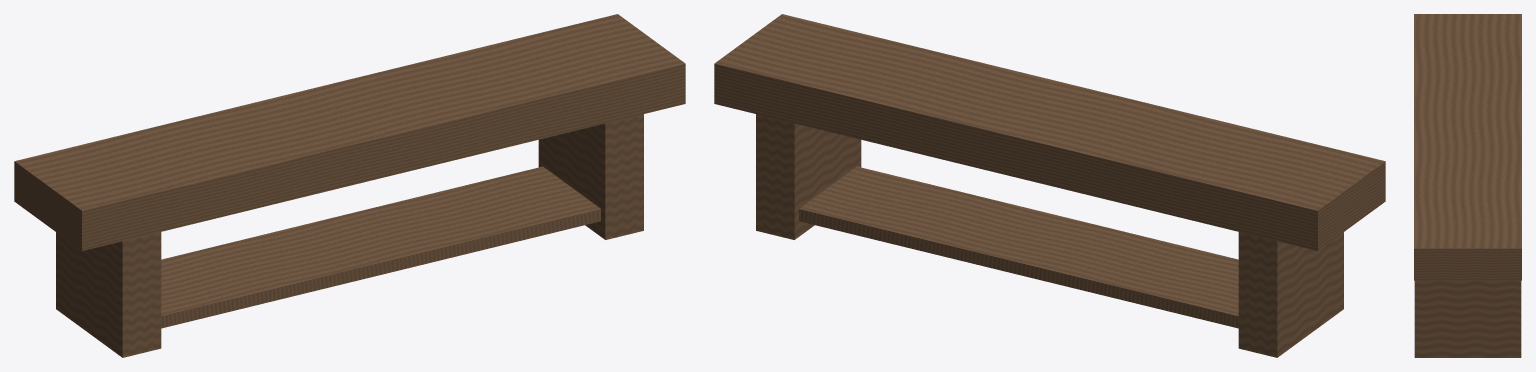
The picture shows the model from 3 angles, left to right: view 1: azimuth 30°, elevation 25°; view 2: azimuth 150°, elevation 25°; view 3: azimuth 270°, elevation 25°; orthographic projection. The views are drawn at different scales.
Parts seen in each view (by area): view 1: 1 tabletop, 4 lower_shelf, 2 left_leg_block, 3 right_leg_block; view 2: 1 tabletop, 4 lower_shelf, 2 left_leg_block, 3 right_leg_block; view 3: 1 tabletop, 3 right_leg_block.
Part boxes in pixels (x1,y1,x2,y2): 1 tabletop: [14, 14, 685, 250]; 4 lower_shelf: [161, 166, 600, 328]; 2 left_leg_block: [56, 232, 161, 357]; 3 right_leg_block: [538, 114, 643, 239]; 1 tabletop: [714, 14, 1385, 250]; 4 lower_shelf: [799, 166, 1238, 328]; 2 left_leg_block: [1238, 232, 1343, 357]; 3 right_leg_block: [756, 114, 861, 239]; 1 tabletop: [1414, 14, 1521, 280]; 3 right_leg_block: [1414, 280, 1521, 357].
Bounding box in the file's own units: 4.01 × 1 × 0.78.
Materials: 1 (1 with a texture image).
